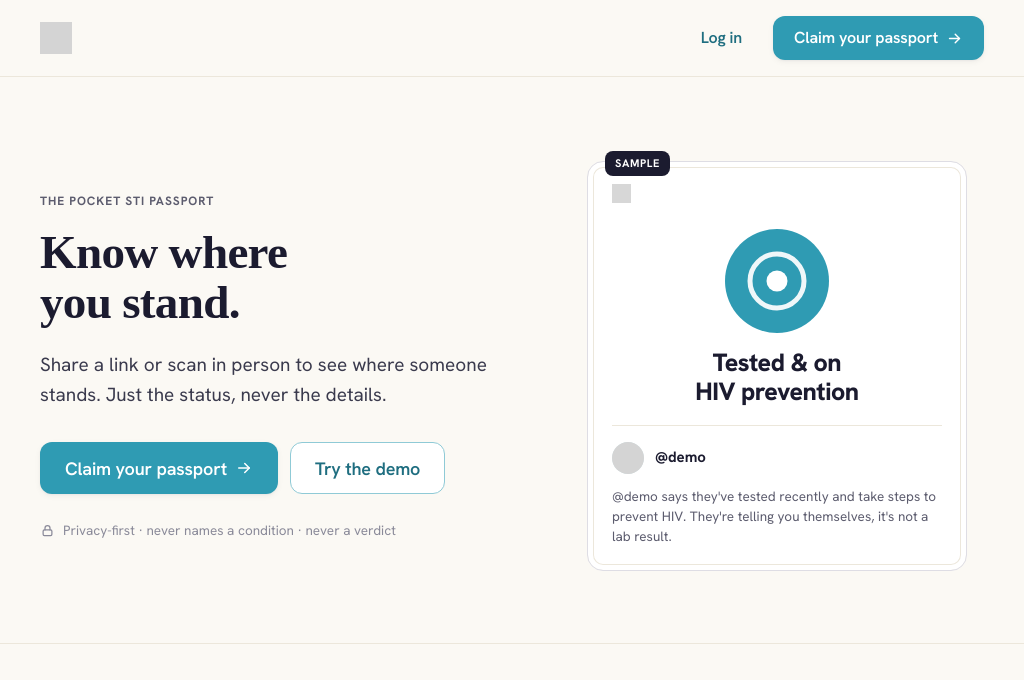
Test: App onboarding flow › logs in on a new device with the recovery phrase (no passkey)
The image size is (1024, 680).
Click the button "Log in": (721, 38) [680, 16, 763, 60]
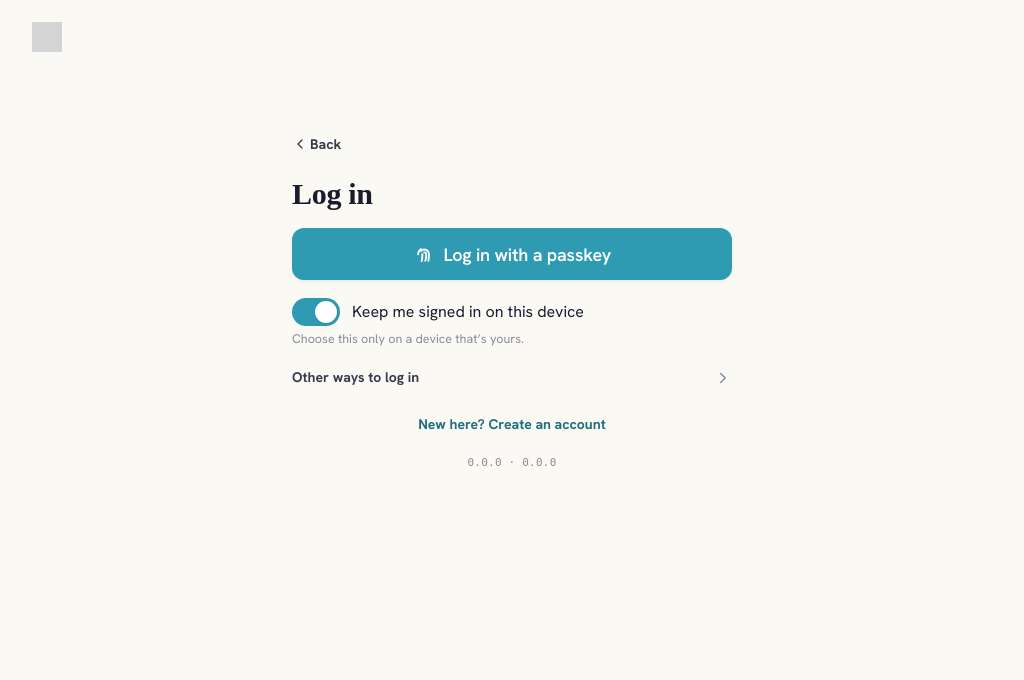
Click the button "Other ways to log in": (356, 377) [292, 367, 732, 388]
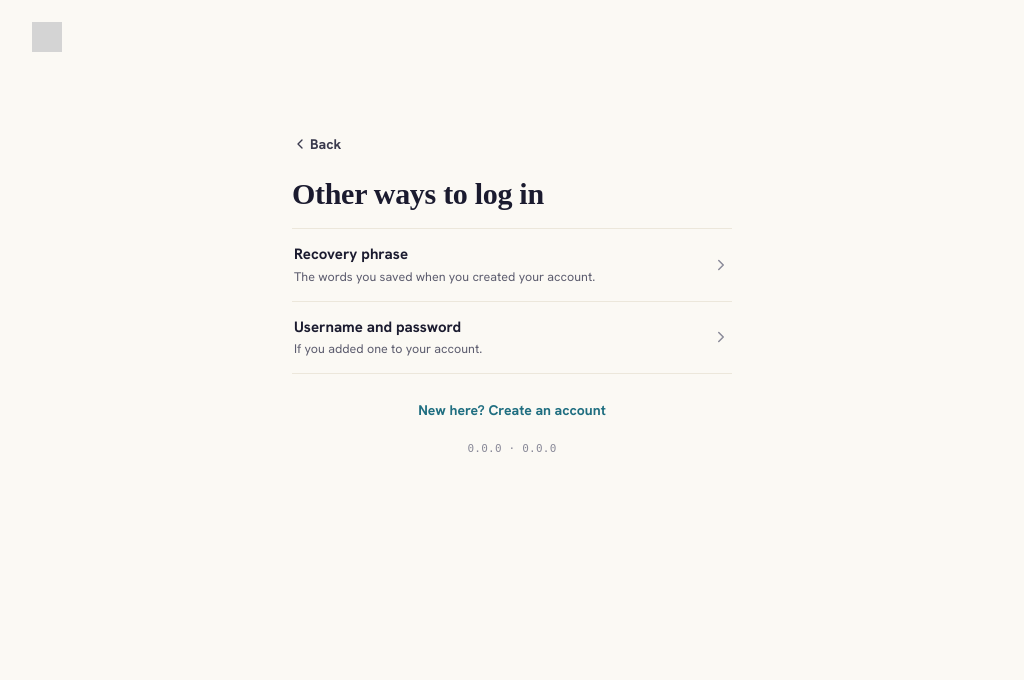
Click the button "Recovery phrase": (351, 254) [292, 228, 732, 301]
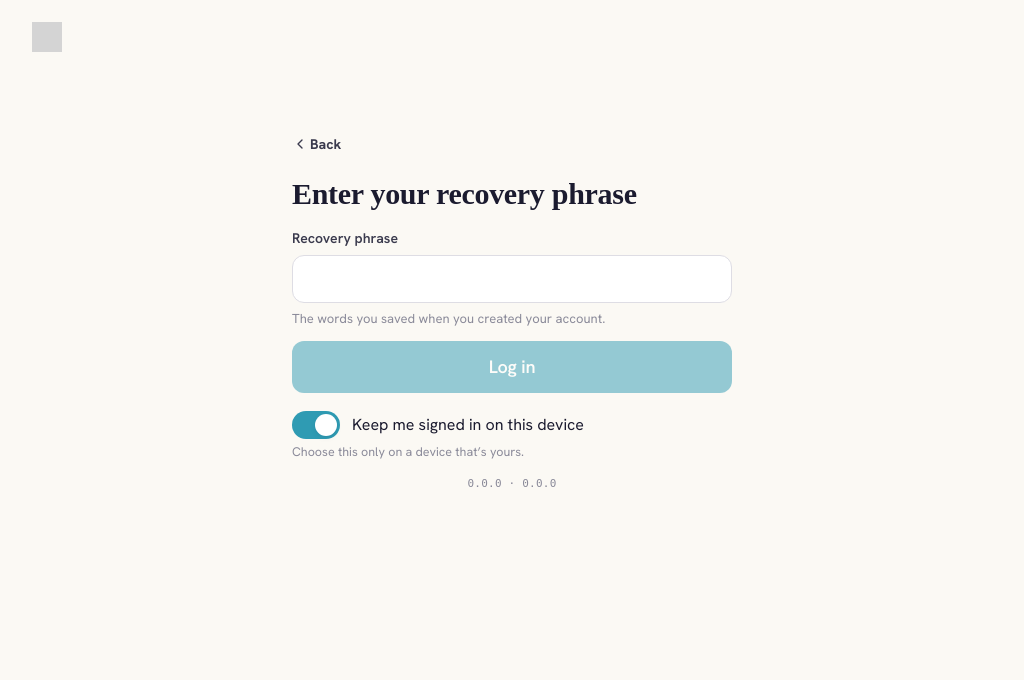
Check: the button "Username" is gone
In the field labelled "Recovery phrase": (512, 279) [292, 255, 732, 303], type "RECOVER-ME-PHRASE"
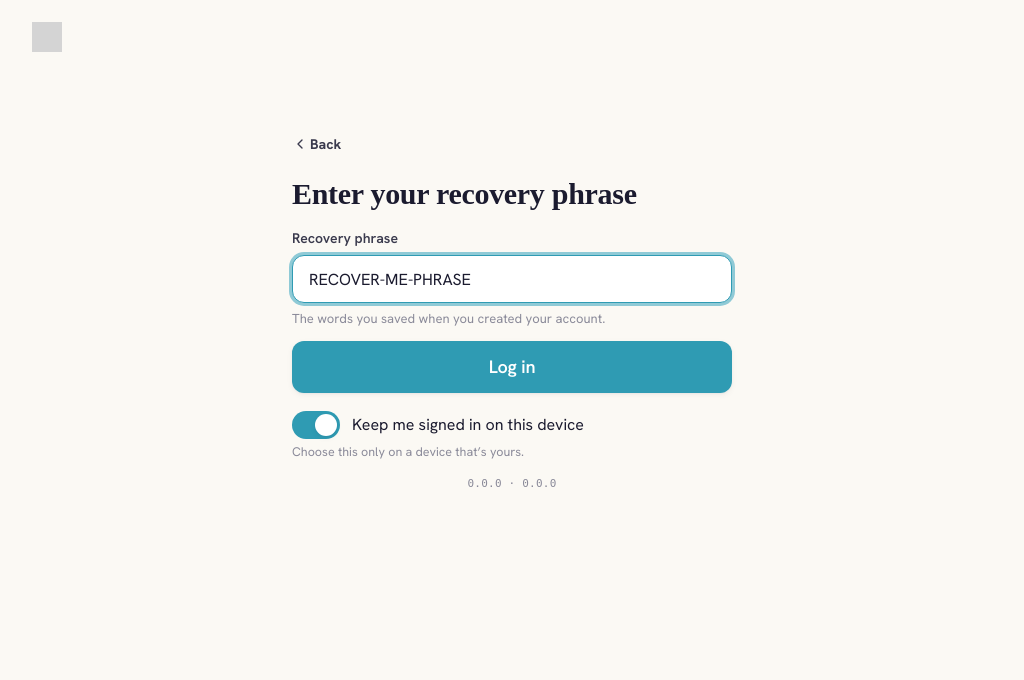
Click the button "Log in": (512, 367) [292, 341, 732, 393]
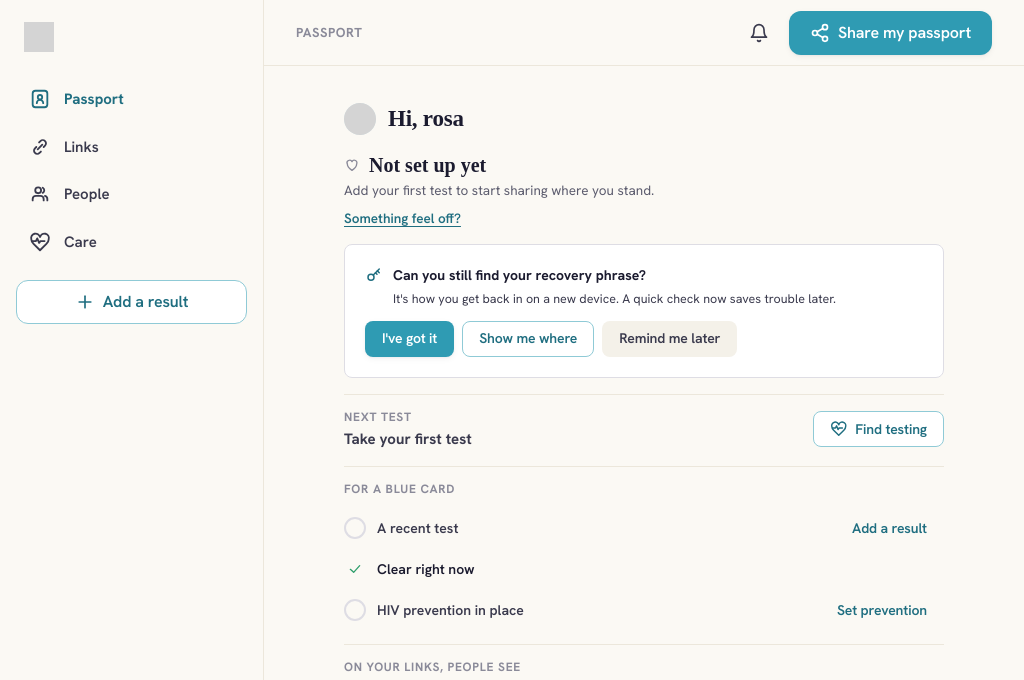
Check: the heading "Hi, rosa" is shown, box [388, 102, 464, 136]
